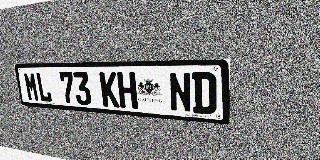3: (73, 72, 92, 105)
7: (58, 72, 77, 104)
D: (192, 72, 216, 115)
H: (117, 72, 138, 109)
K: (99, 72, 120, 108)
L: (35, 72, 52, 103)
M: (23, 72, 40, 102)
N: (168, 72, 192, 113)
